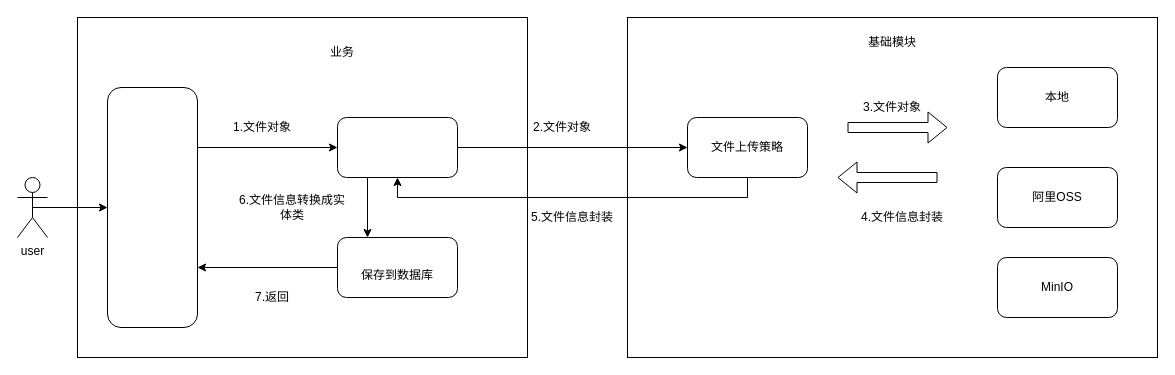
Some shapes in this 1175 by 375 pixel diagram are drawn without their labels. Here are the shapes that lost their labels. From the top down, the box of each, then its label:
(336, 116, 458, 178): 上传Service
(106, 86, 198, 328): 文件上传接口
